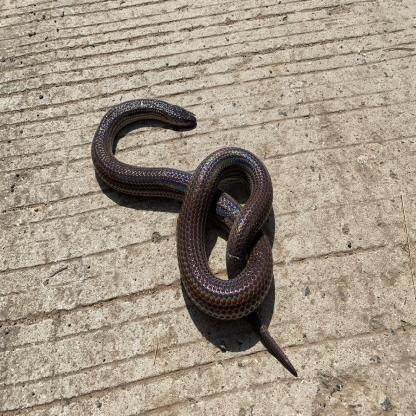Snake: (86, 90, 303, 375), (118, 91, 204, 144)
